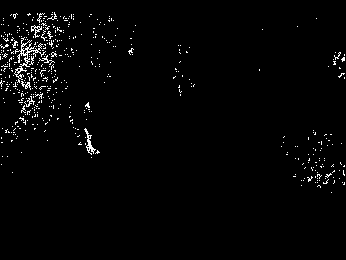person: (67, 99, 103, 157)
